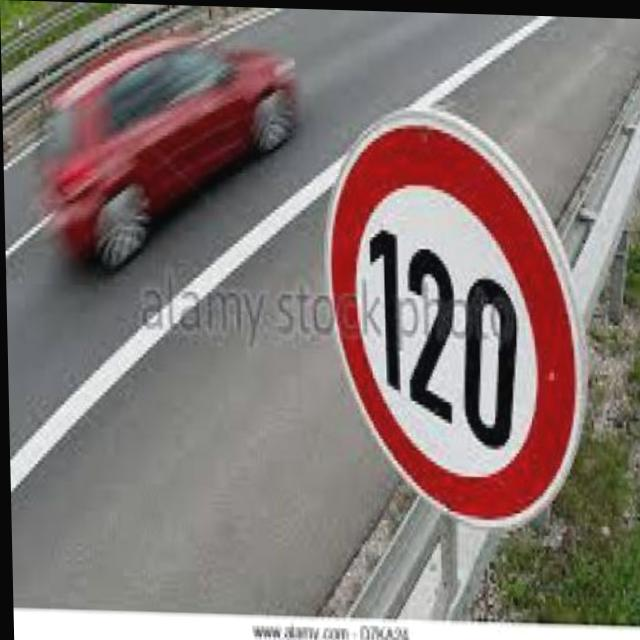limit120: (313, 103, 598, 532)
